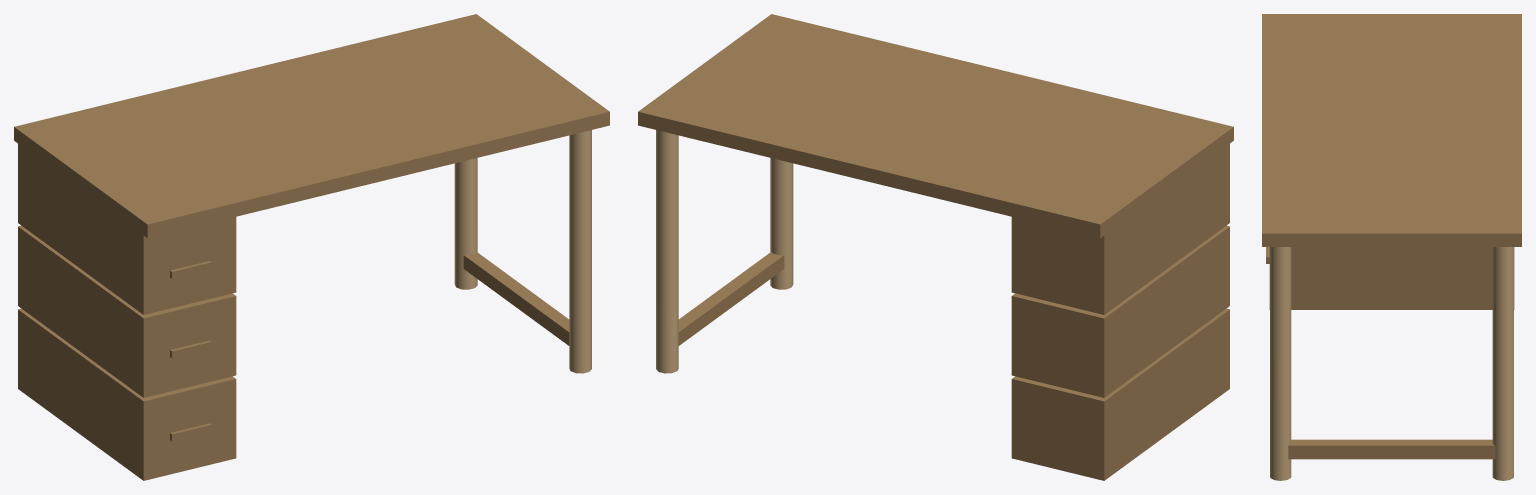
The model's file is desk.glb.
The picture shows the model from 3 angles, left to right: view 1: azimuth 30°, elevation 25°; view 2: azimuth 150°, elevation 25°; view 3: azimuth 270°, elevation 25°; orthographic projection. The views are drawn at different scales.
Bounding box in the file's own units: 1.4 × 0.75 × 0.7.
